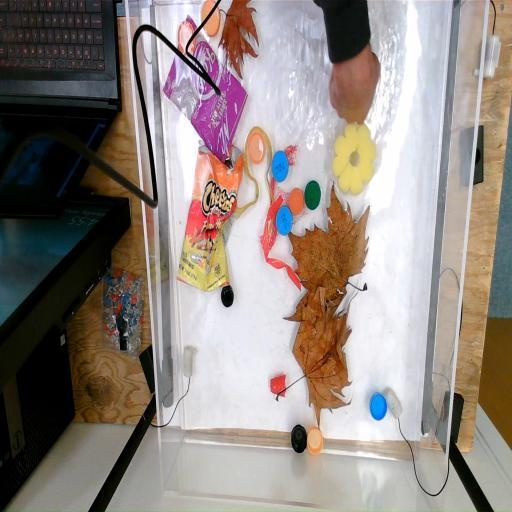Bottle Cap: (199, 0, 222, 39), (176, 18, 195, 58), (302, 179, 322, 214), (289, 420, 308, 456), (368, 390, 388, 423), (248, 130, 266, 165), (275, 205, 293, 239), (304, 425, 325, 454), (272, 150, 288, 184), (289, 187, 304, 213), (220, 284, 234, 310)
Cone Cap: (268, 373, 288, 398)
Leaf: (279, 182, 373, 324), (274, 298, 352, 433), (218, 0, 264, 81)
Netting: (264, 140, 302, 248)
Plastic Bag: (162, 18, 249, 168), (174, 138, 250, 292)
Plastic Strand: (230, 124, 280, 234), (261, 194, 302, 294)
Sponge: (332, 121, 378, 197)
